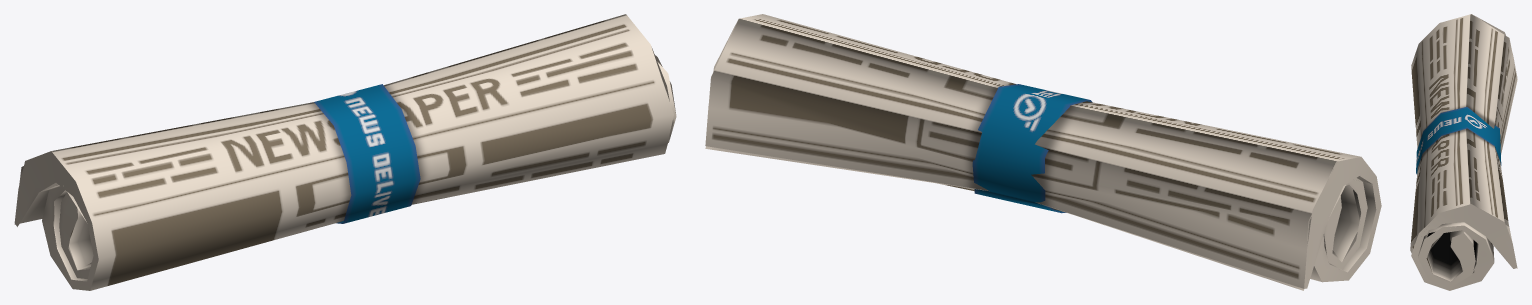
The model's file is Gazete 1.fbx.
3 views of the same model, side by side, from view 1: azimuth 30°, elevation 25°; view 2: azimuth 150°, elevation 25°; view 3: azimuth 270°, elevation 25° (orthographic). The views are drawn at different scales.
Visible parts, largest first — view 1: Cube; view 2: Cube; view 3: Cube.
Boxes of the visible parts, x1,y1,x2,y2 form: Cube: (14,14,676,290); Cube: (705,14,1381,290); Cube: (1410,14,1517,290).
Bounding box in the file's own units: 19.3 × 4.09 × 4.56.
1 material, 1 textured.
